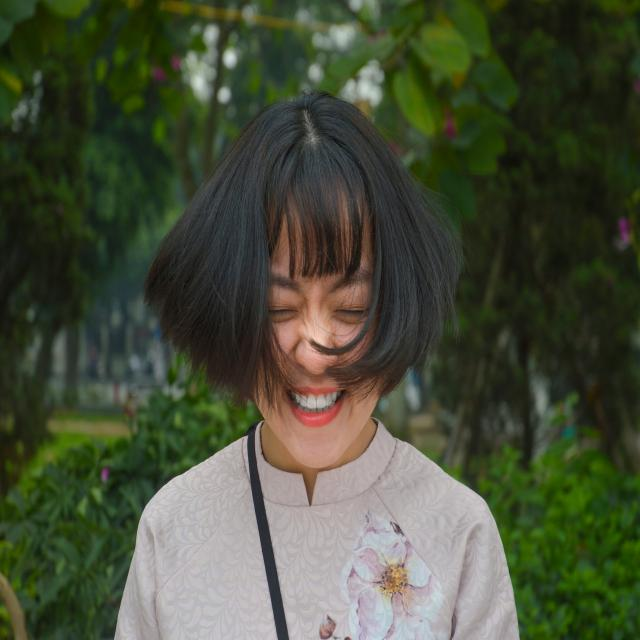adult: (115, 94, 518, 640)
